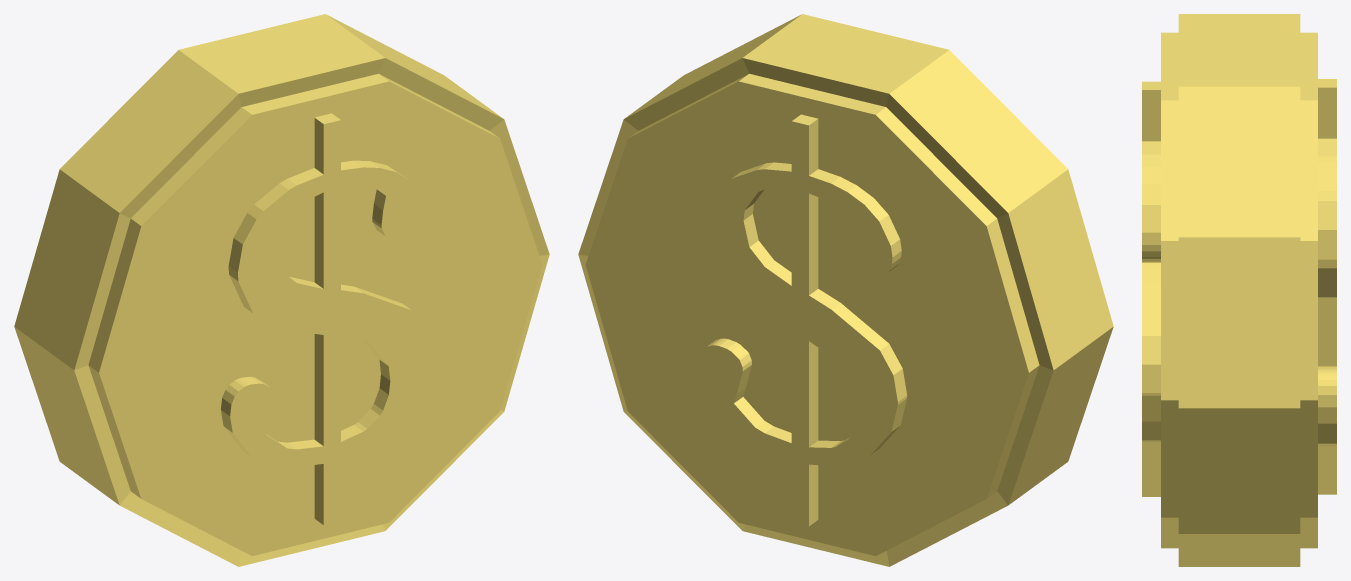
The model's file is simple_coin.fbx.
3 views of the same model, side by side, from view 1: azimuth 30°, elevation 25°; view 2: azimuth 150°, elevation 25°; view 3: azimuth 270°, elevation 25° (orthographic).
Parts seen in each view (by area): view 1: Trim_Char_x_1_1; view 2: Trim_Char_x_1_1; view 3: Trim_Char_x_1_1.
Part boxes in pixels (box(x1,y1,x2,y2)): Trim_Char_x_1_1: box(14, 14, 549, 566); Trim_Char_x_1_1: box(578, 14, 1113, 566); Trim_Char_x_1_1: box(1142, 14, 1336, 566).
Bounding box in the file's own units: 2.55 × 2.42 × 0.8916.
